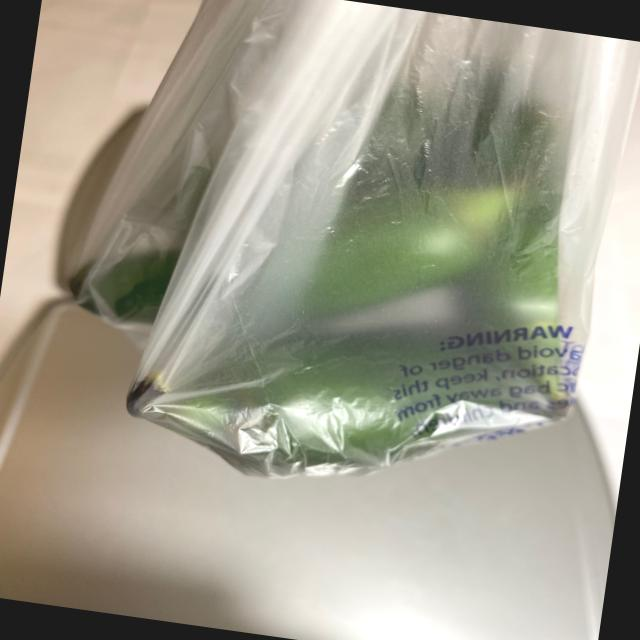chilli: (29, 24, 640, 525)
